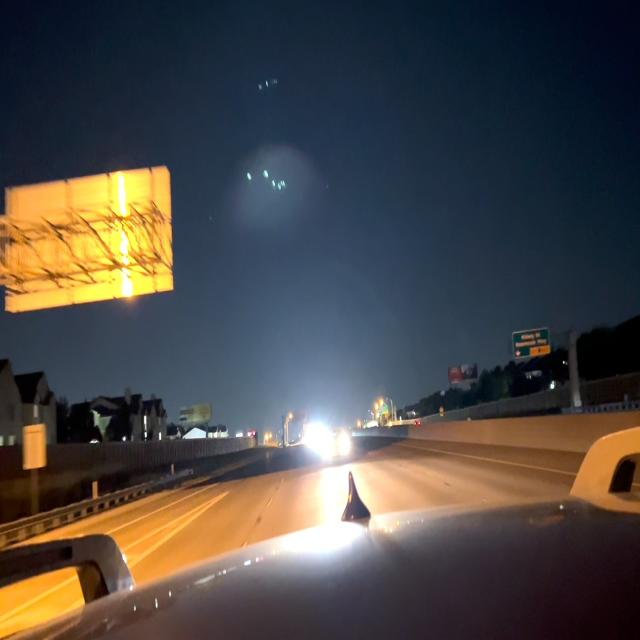back-of-sign: (5, 166, 176, 315)
